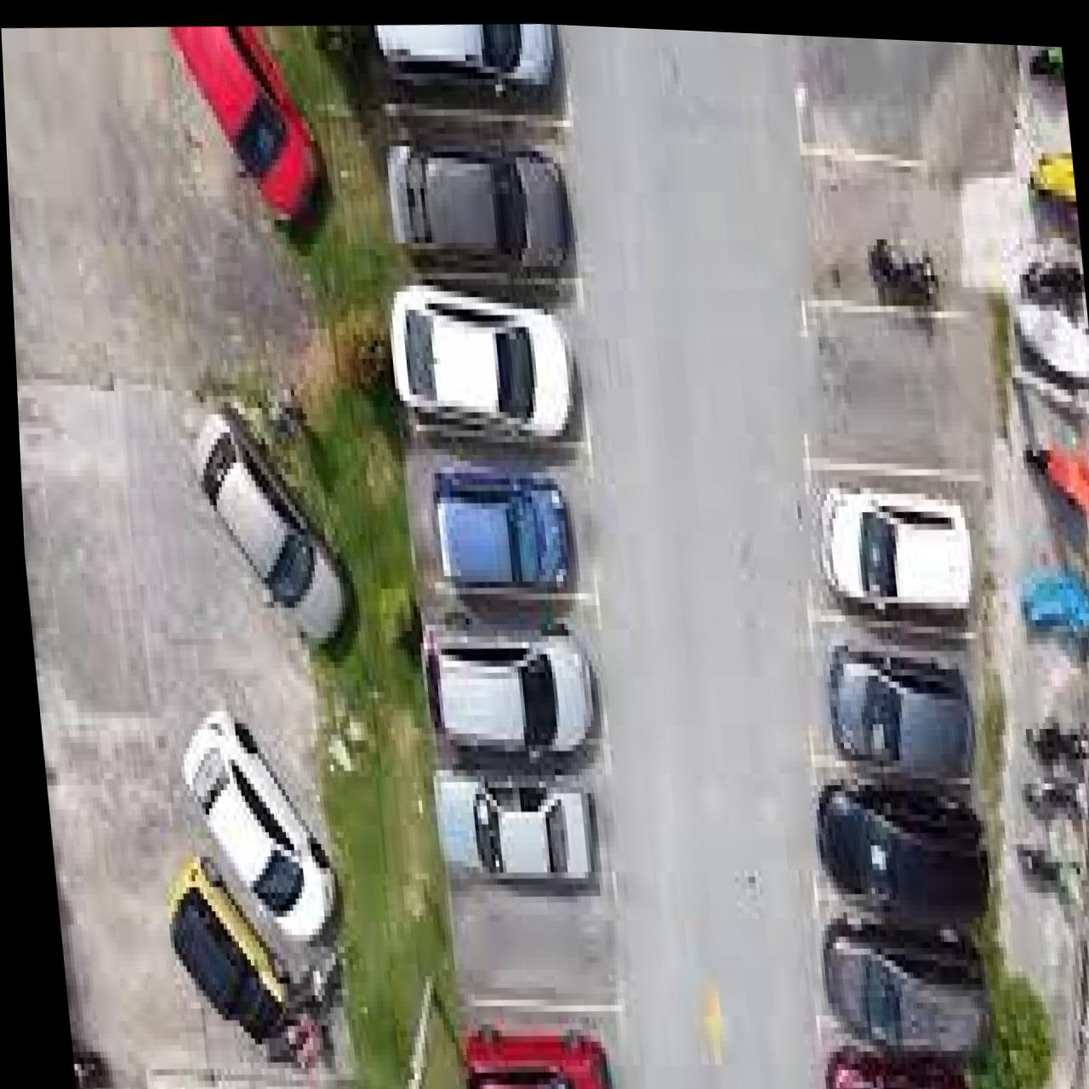cars: (370, 106, 584, 300), (385, 263, 592, 445), (413, 591, 617, 772), (404, 419, 589, 593), (798, 621, 983, 789), (805, 776, 988, 932), (808, 473, 998, 623), (430, 740, 613, 895), (811, 912, 997, 1056)
empty: (794, 123, 1011, 349), (797, 273, 987, 496), (761, 34, 1003, 189), (446, 852, 621, 1026)
